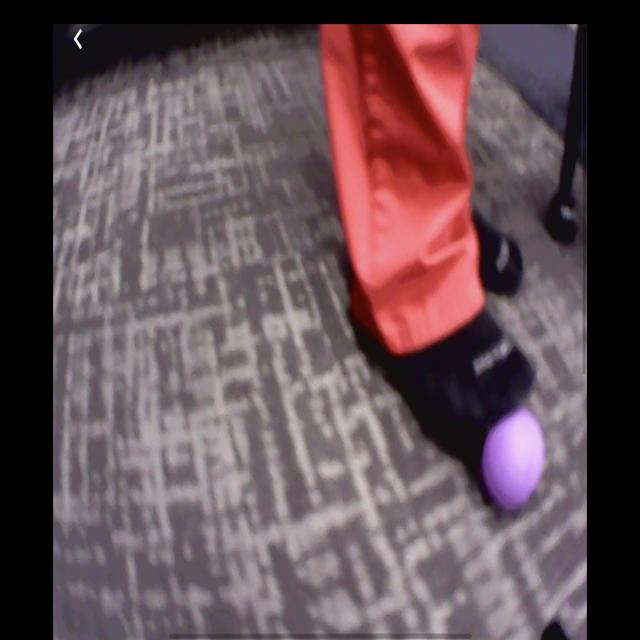ball: (481, 408, 546, 510)
